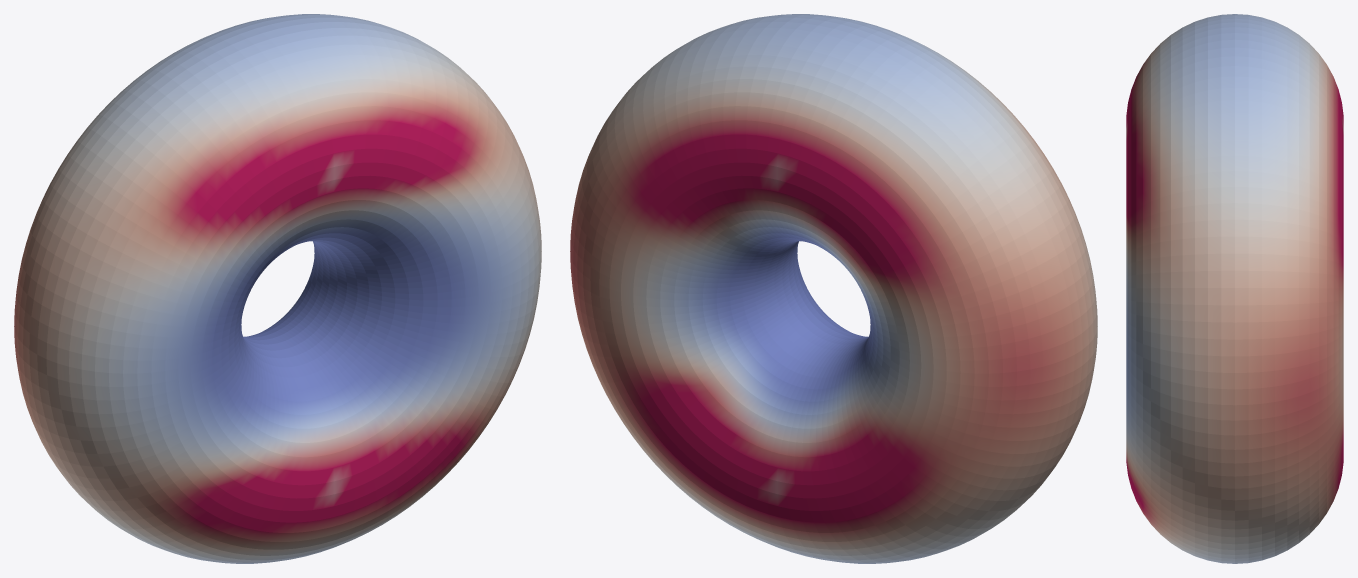
3 renders of one model, left to right at view 1: azimuth 30°, elevation 25°; view 2: azimuth 150°, elevation 25°; view 3: azimuth 270°, elevation 25°, orthographic. The views are drawn at different scales.
Parts seen in each view (by area): view 1: world; view 2: world; view 3: world.
Boxes of the visible parts, x1,y1,x2,y2 form: world: (14, 14, 541, 563); world: (570, 14, 1097, 563); world: (1126, 14, 1343, 563).
Size of the model in its own units: 19.87 by 19.87 by 7.85.
